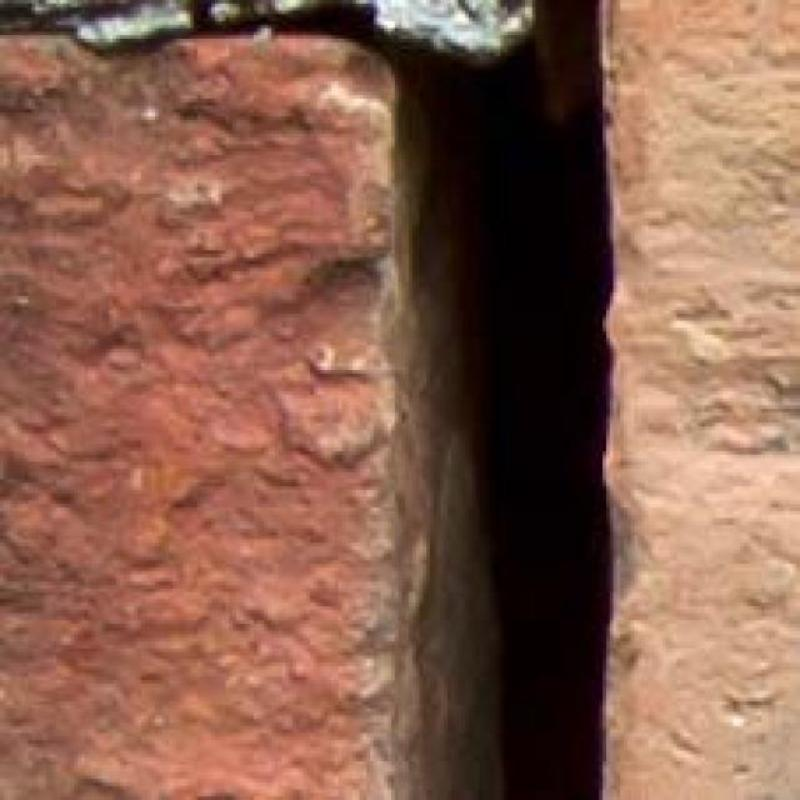pothole: (194, 0, 612, 799)
